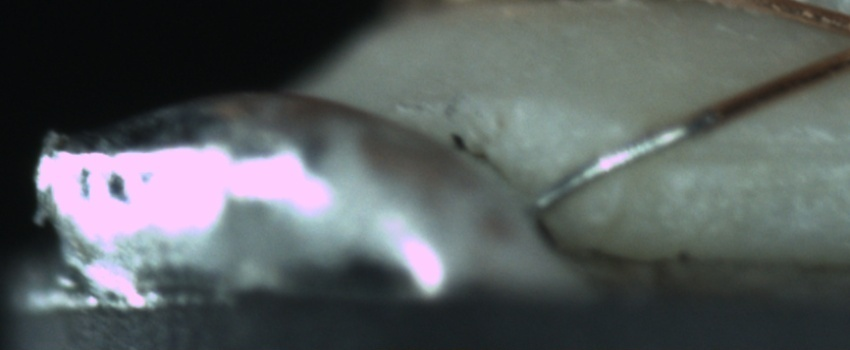DL: (643, 120, 849, 184)
TS: (534, 109, 719, 214)
